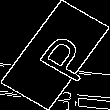P_NW: (19, 26, 91, 84)
